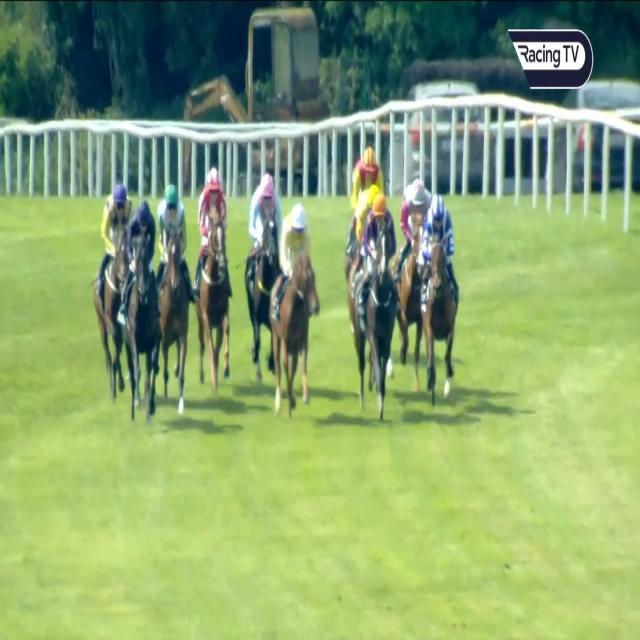horses-racing: (270, 202, 316, 415), (353, 198, 396, 414), (120, 195, 156, 439), (98, 177, 136, 407), (242, 163, 282, 379), (420, 196, 460, 402), (156, 176, 189, 419), (196, 164, 229, 397), (393, 177, 433, 350), (344, 188, 388, 240), (353, 144, 385, 195)
